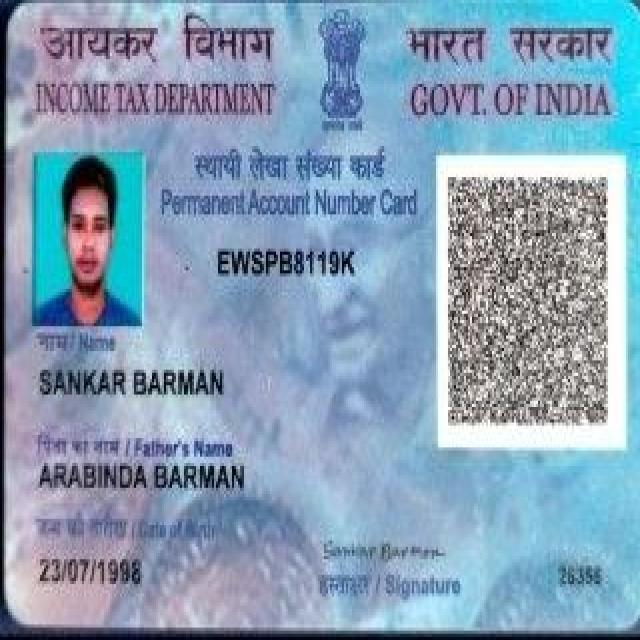pan_card: (3, 5, 640, 635)
